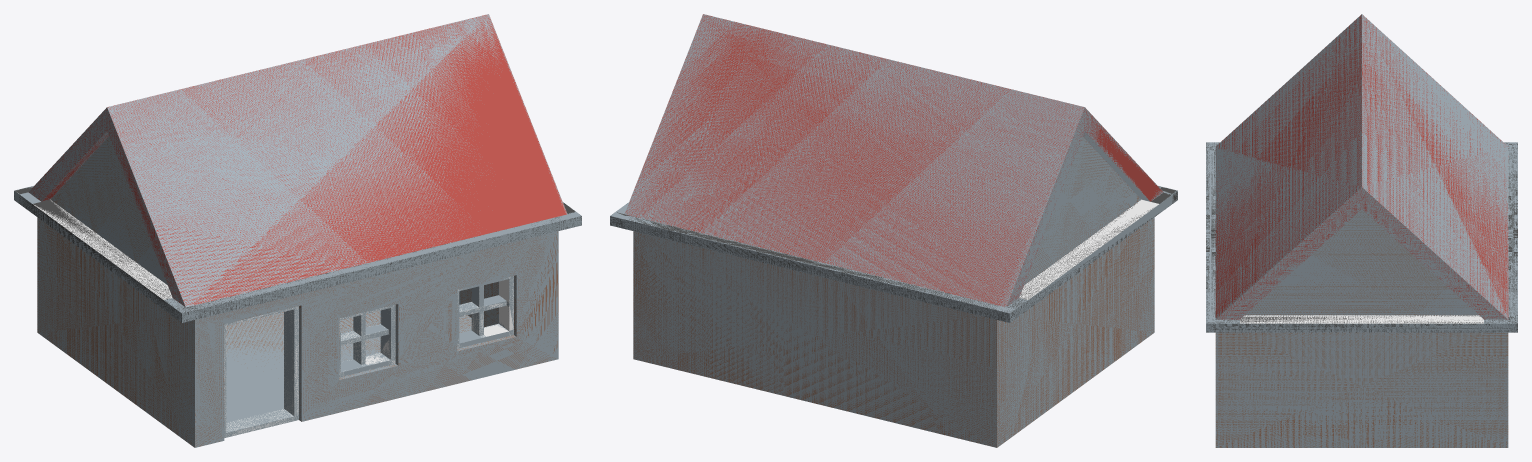
Rendered from House.fbx.
The picture shows the model from 3 angles, left to right: view 1: azimuth 30°, elevation 25°; view 2: azimuth 150°, elevation 25°; view 3: azimuth 270°, elevation 25°; orthographic projection. The views are drawn at different scales.
Parts seen in each view (by area): view 1: Model; view 2: Model; view 3: Model.
Boxes of the visible parts, x1,y1,x2,y2 form: Model: (14,14,581,447); Model: (610,14,1177,447); Model: (1206,14,1517,447).
Bounding box in the file's own units: 8.8 × 6 × 6.4.
